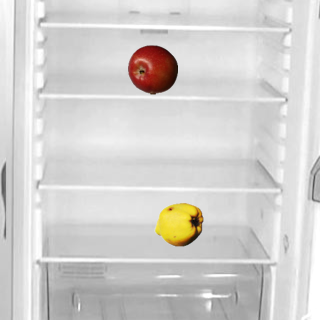Apple Braeburn: (127, 44, 177, 94)
Quince: (153, 199, 203, 249)
